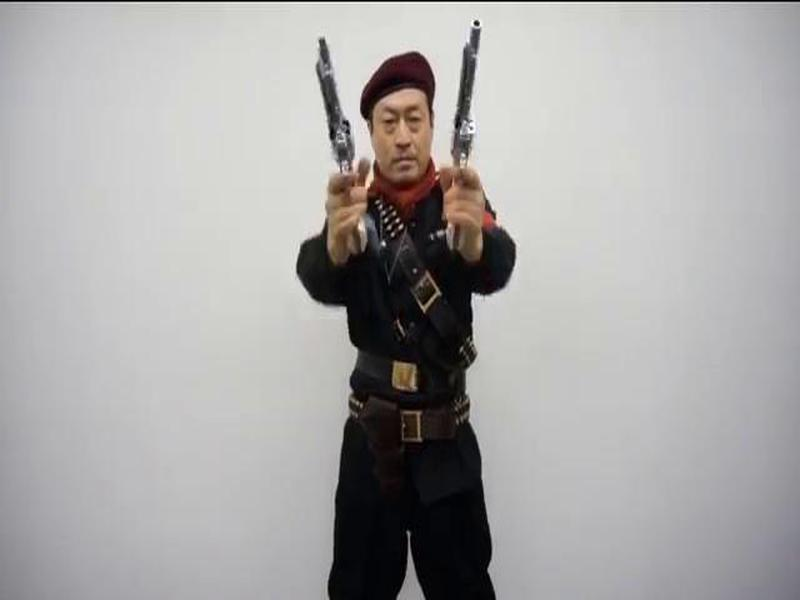Revolver: (306, 27, 383, 268), (438, 12, 500, 254)
